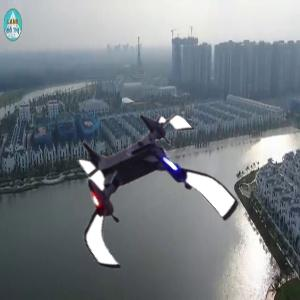drone: (58, 108, 229, 279)
